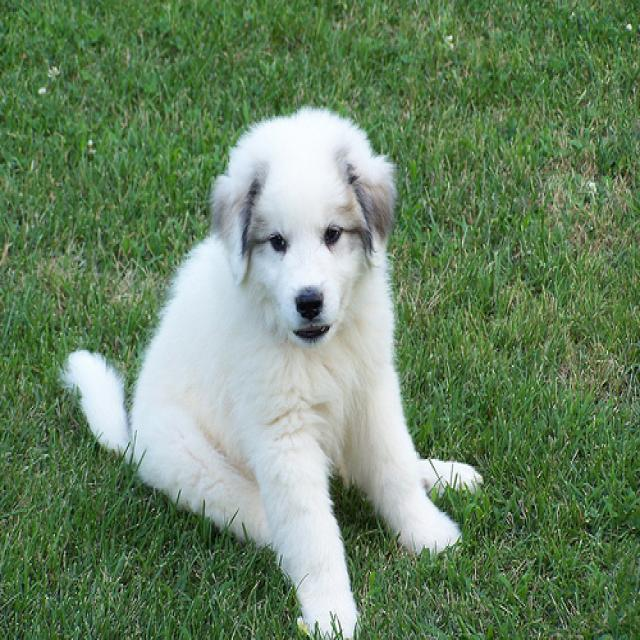dog-great_pyrenees: (54, 90, 488, 637)
